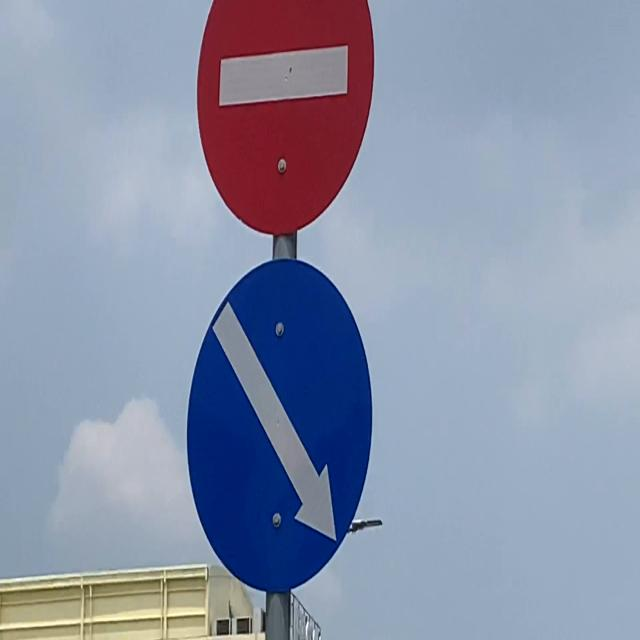Cam nguoc chieu: (196, 0, 375, 238)
Hieu lenh: (185, 256, 373, 595)
